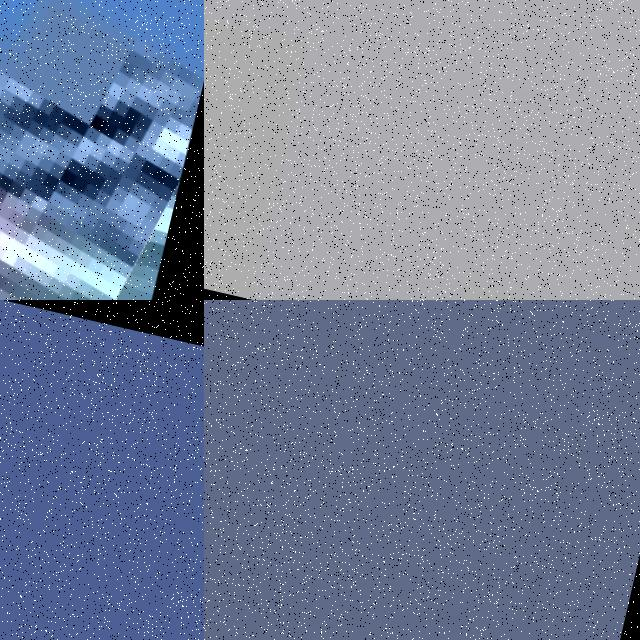drone: (0, 0, 204, 300)
